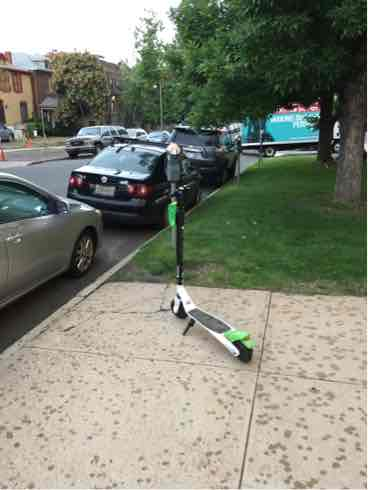scooter: (137, 177, 258, 367)
